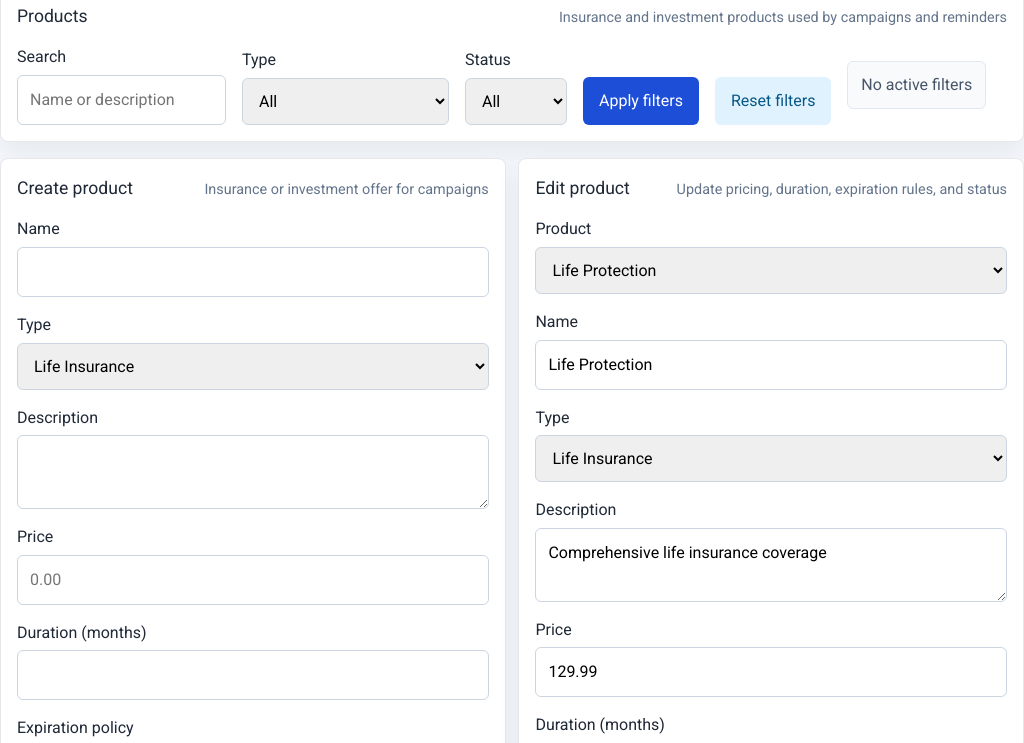
Test: ProductsPage › applies product search and filter query parameters
The width and height of the screenshot is (1024, 743).
Type "life" into the field named "Search products" at (122, 100), box top-left (17, 75), bottom-right (226, 125)
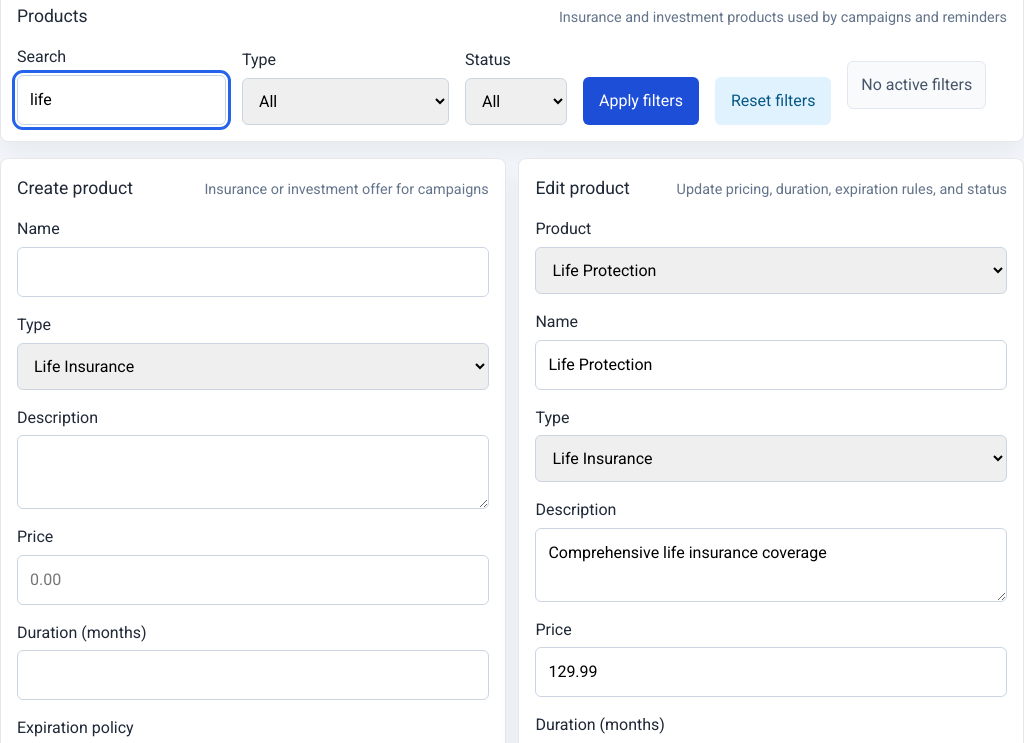
Select "Life Insurance" in the dropdown named "Product type filter" at (346, 102), box top-left (242, 78), bottom-right (449, 125)
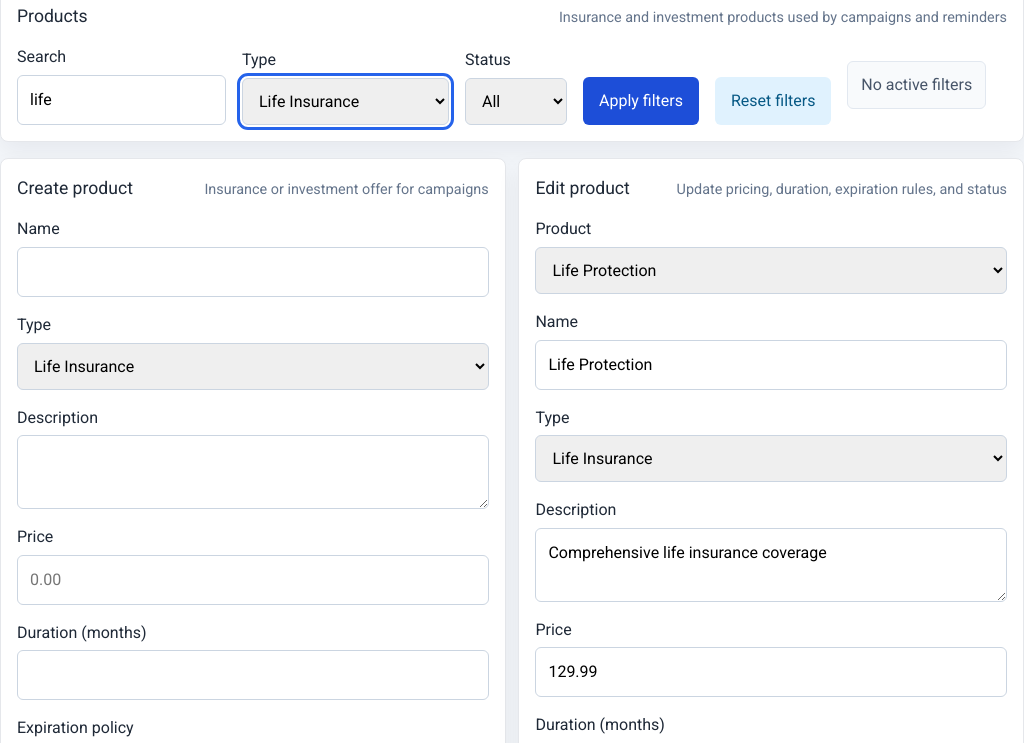
Select "Active" in the dropdown named "Product active filter" at (516, 102), box top-left (465, 78), bottom-right (567, 125)
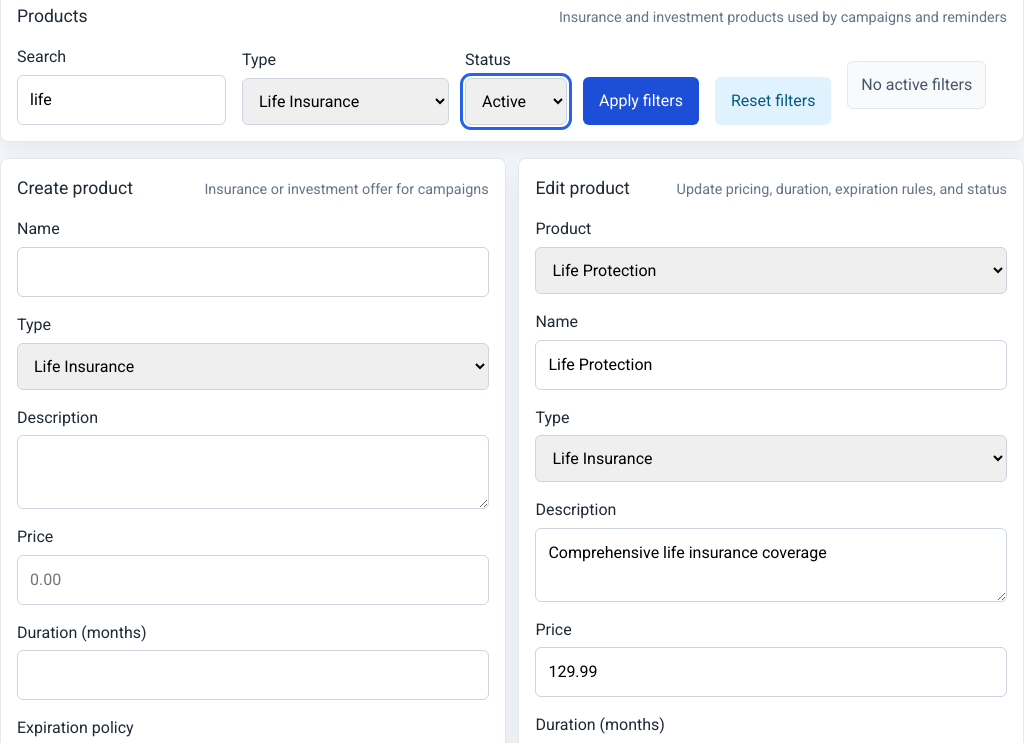
Click the button "Apply filters" at (641, 101), box top-left (583, 77), bottom-right (699, 125)
(page scrolled)
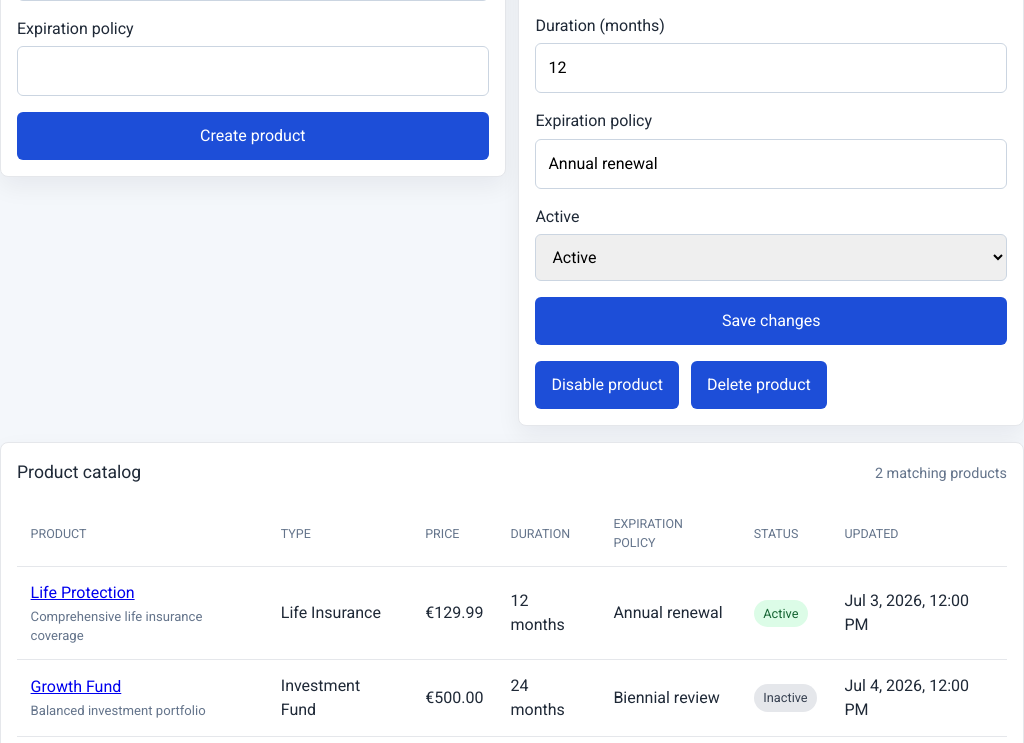
Now the text "2 matching products" is shown, box top-left (875, 463), bottom-right (1007, 485)
